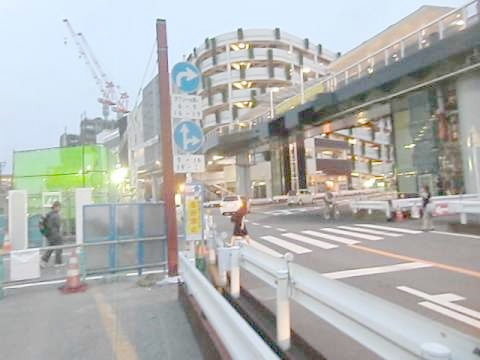Direction_sign: (168, 121, 207, 156), (170, 59, 198, 92)
